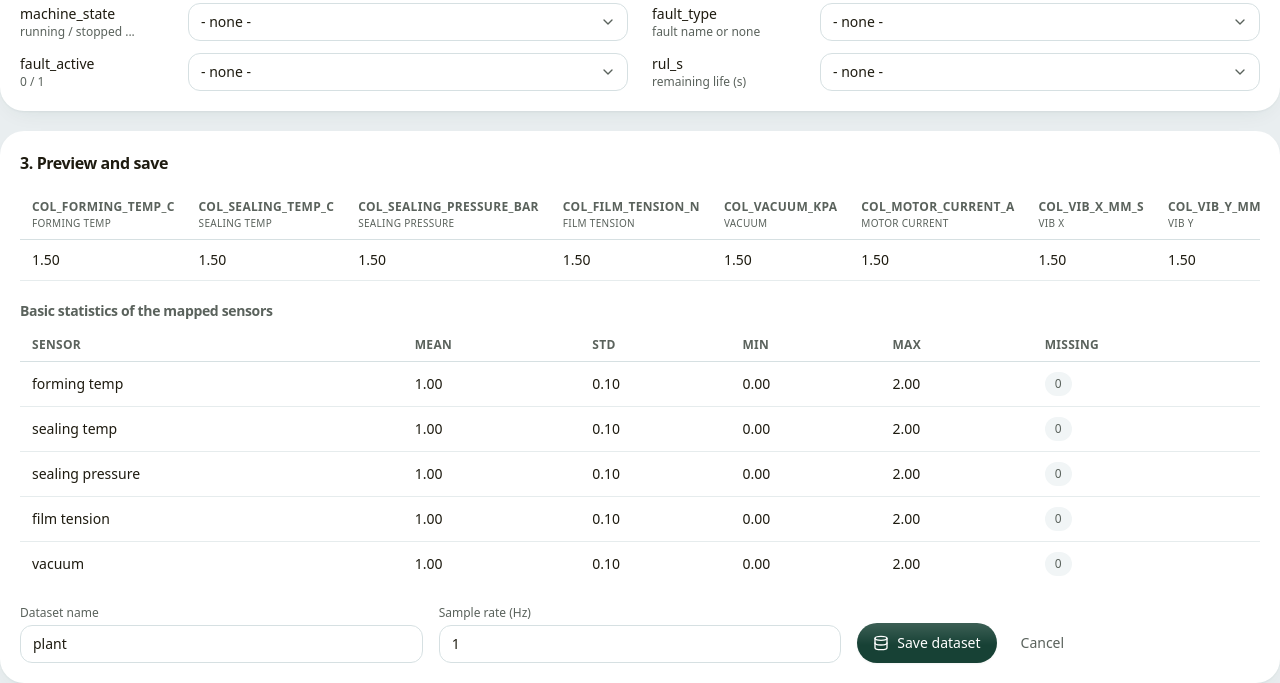
Scenario: Data Lab upload › inspects a file, shows the mapping and saves with the mapping as JSON form data
Earlier steps of the test are not shown.
(page scrolled)
Click the button "Save dataset": (927, 643) [857,623,996,663]
(page scrolled)
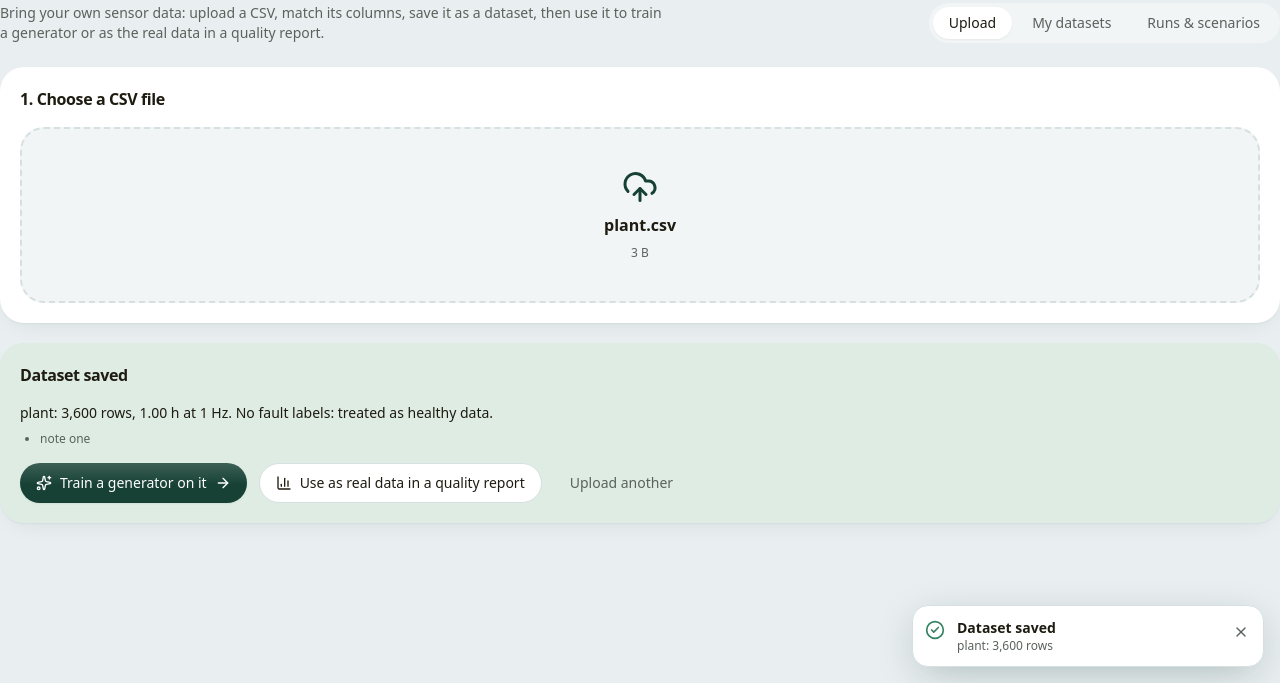
Check: the list item "note one" is shown, box [40,430,90,447]
